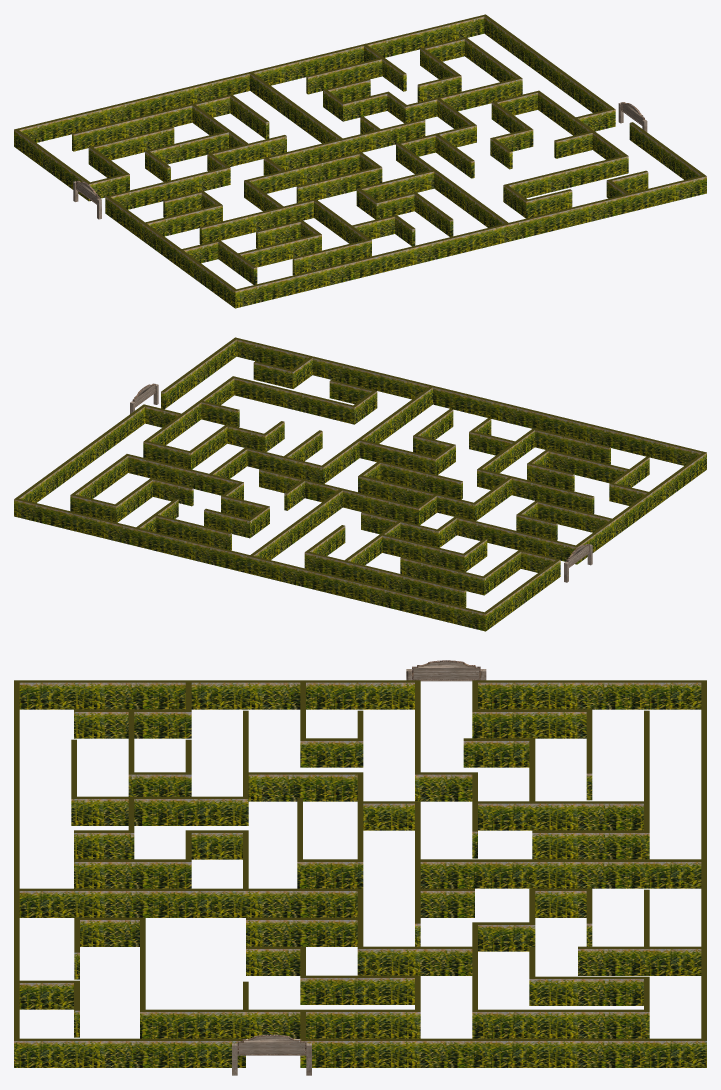
Rendered from laberinto.glb.
3 views of the same model, one above another, from view 1: azimuth 30°, elevation 25°; view 2: azimuth 150°, elevation 25°; view 3: azimuth 270°, elevation 25° (orthographic). The views are drawn at different scales.
Visible parts, largest first — view 1: Line003_1, Line002_0; view 2: Line003_1, Line002_0; view 3: Line003_1, Line002_0, sign_6, sign001_12.
Boxes of the visible parts, x1=… form: Line003_1: x1=72, y1=37, x2=706, y2=308; Line002_0: x1=14, y1=14, x2=628, y2=275; Line003_1: x1=70, y1=337, x2=706, y2=607; Line002_0: x1=14, y1=376, x2=610, y2=631; Line003_1: x1=14, y1=680, x2=649, y2=1067; Line002_0: x1=71, y1=680, x2=706, y2=1067; sign_6: x1=413, y1=662, x2=479, y2=679; sign001_12: x1=239, y1=1036, x2=304, y2=1053.
Bounding box in the file's own units: 125 × 6.05 × 97.13.
15 materials, 13 textured.
